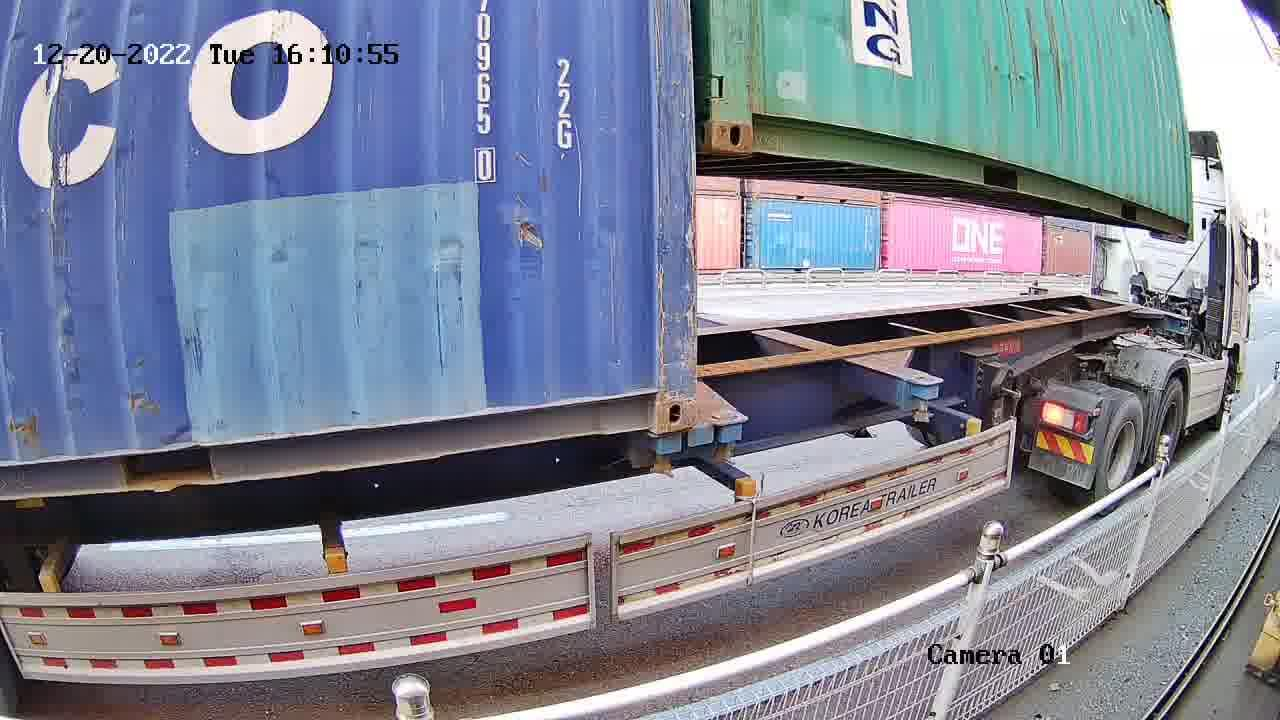Cone: (709, 412, 749, 468), (645, 432, 688, 479)
Hole_L: (713, 79, 788, 157)
Hole_R: (605, 351, 698, 433)
Tire: (1097, 398, 1144, 503), (1155, 380, 1186, 465)
